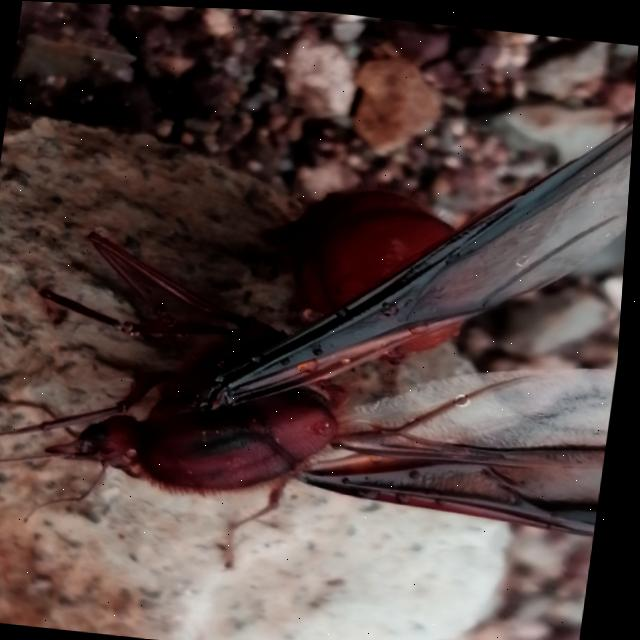Alive-Male-Alate: (0, 39, 638, 604)
